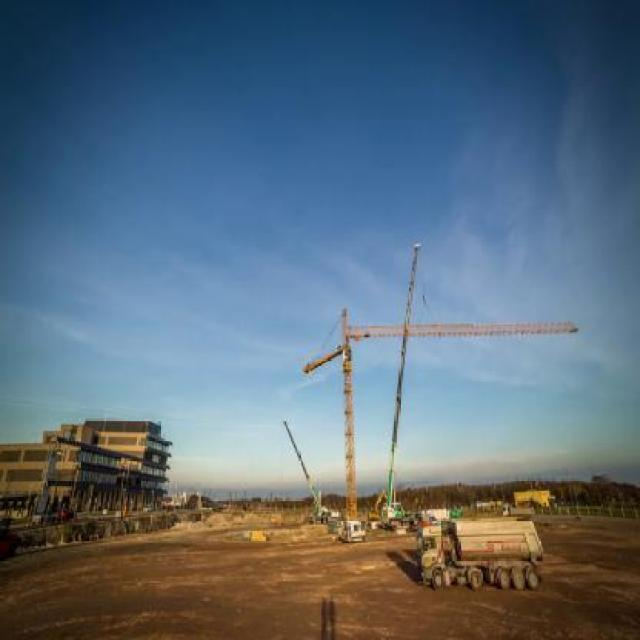Dump Truck: (415, 518, 543, 592)
Mobile Crane: (382, 243, 424, 528), (282, 419, 328, 523)
